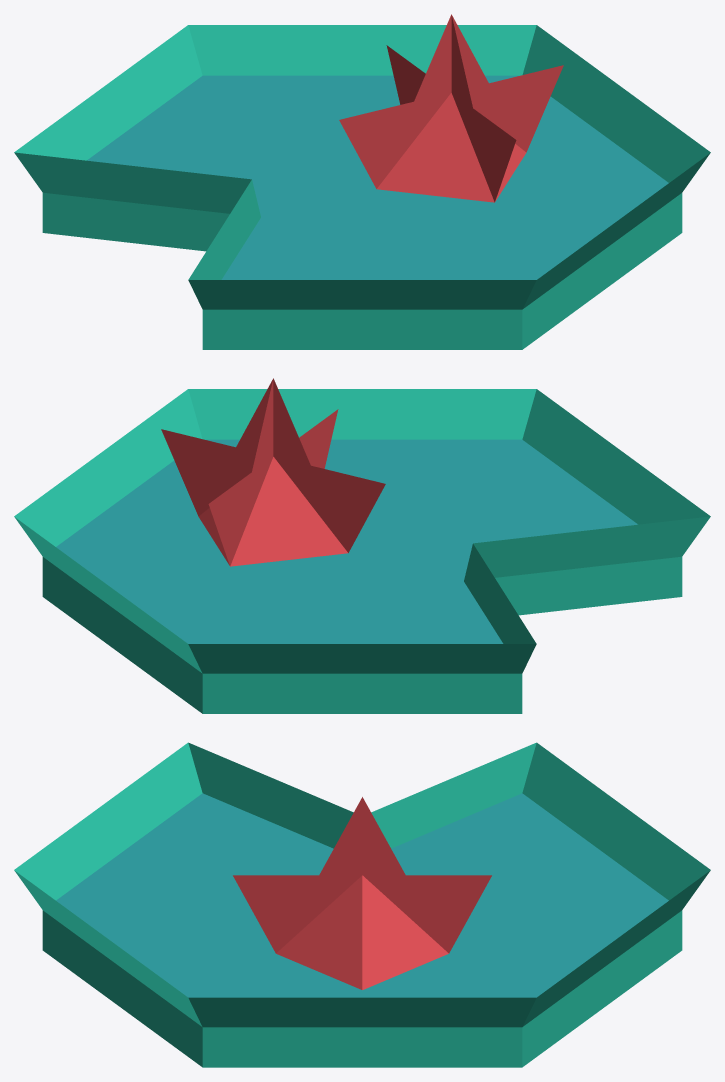
File: lily_large.obj
3 views of the same model, one above another, from view 1: azimuth 30°, elevation 25°; view 2: azimuth 150°, elevation 25°; view 3: azimuth 270°, elevation 25° (orthographic).
Bounding box in the file's own units: 0.2719 × 0.098 × 0.3139.
